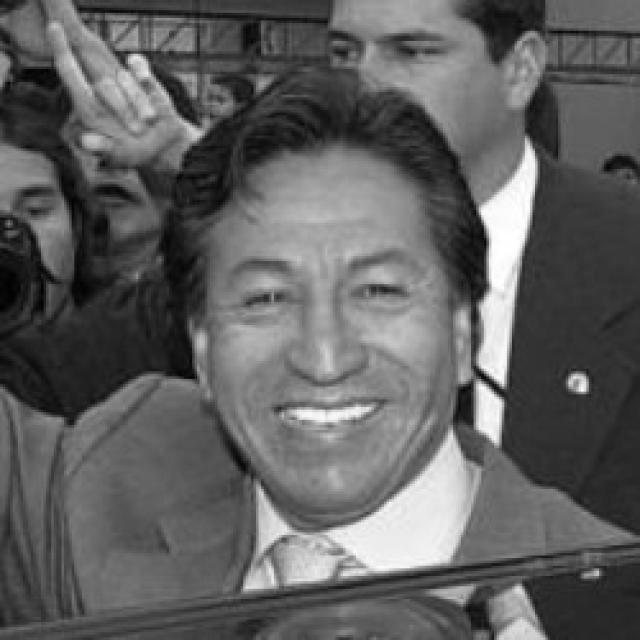real: (196, 148, 462, 518), (223, 275, 420, 321), (323, 35, 456, 68)
